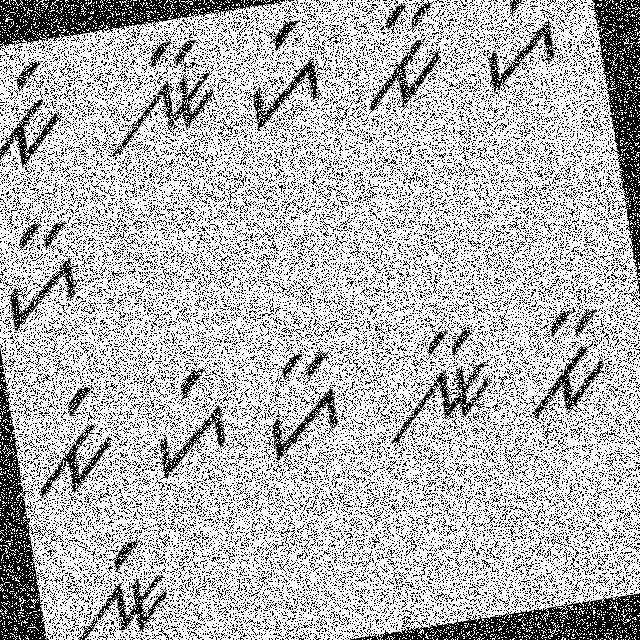han: (0, 213, 99, 341), (250, 343, 352, 463)
hang: (128, 353, 236, 485), (232, 12, 330, 136), (465, 0, 566, 100)
mban: (507, 294, 626, 434), (349, 0, 454, 123)
mbang: (19, 376, 122, 514), (0, 49, 76, 180)
ndan: (368, 318, 503, 459), (87, 30, 230, 160)
ndang: (50, 531, 184, 639)
